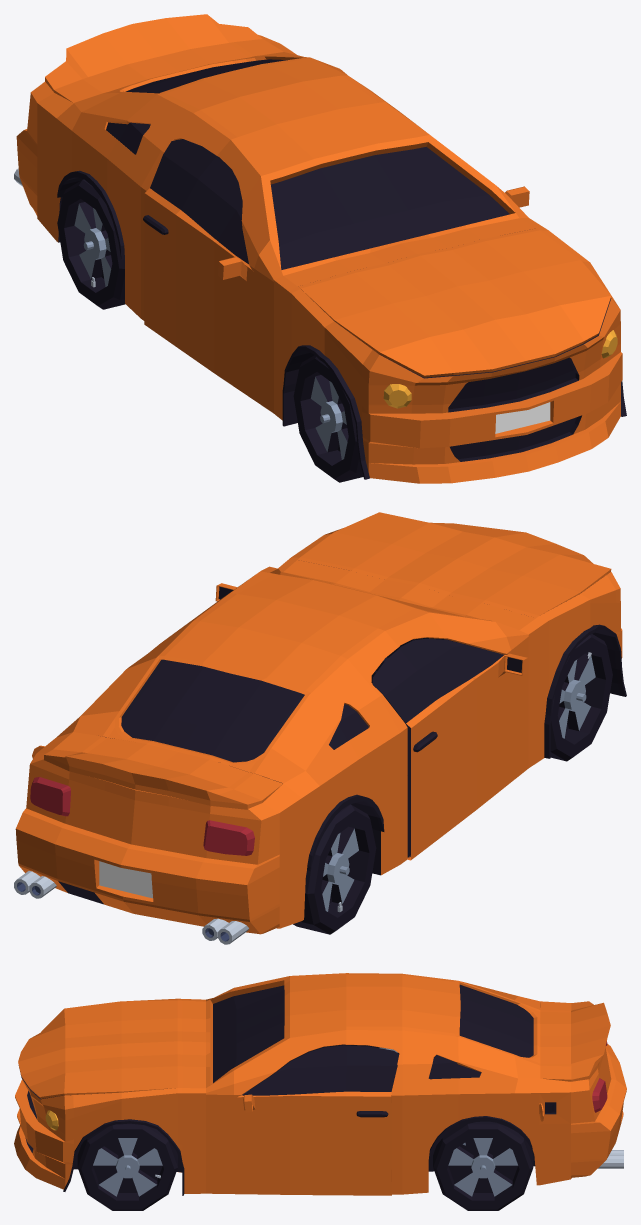
File: low-poly-car.fbx
3 renders of one model, top to bottom at view 1: azimuth 30°, elevation 25°; view 2: azimuth 150°, elevation 25°; view 3: azimuth 270°, elevation 25°, orthographic. The views are drawn at different scales.
Visible parts, largest first — view 1: car body, hood, door. R, trunck; view 2: car body, door. R, hood, trunck; view 3: car body, door.L, hood, trunck.
Boxes of the visible parts, x1=… form: car body: x1=14, y1=35, x2=626, y2=483; hood: x1=298, y1=228, x2=611, y2=377; door. R: x1=143, y1=139, x2=254, y2=399; trunck: x1=45, y1=14, x2=283, y2=102; car body: x1=14, y1=528, x2=626, y2=944; door. R: x1=372, y1=638, x2=527, y2=860; hood: x1=297, y1=512, x2=611, y2=617; trunck: x1=44, y1=732, x2=283, y2=809; car body: x1=14, y1=973, x2=626, y2=1210; door.L: x1=234, y1=1045, x2=399, y2=1195; hood: x1=18, y1=1000, x2=182, y2=1098; trunck: x1=540, y1=1001, x2=610, y2=1081.
Bounding box in the file's own units: 489 × 339 × 1128.
1 material, 1 textured.
